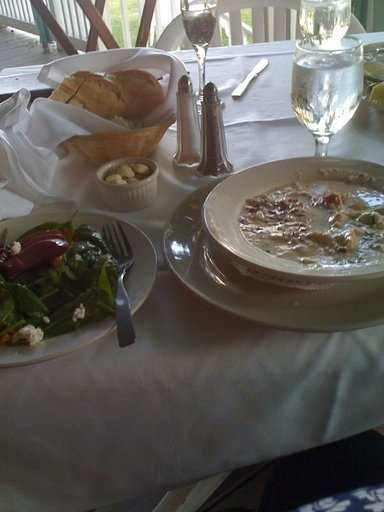soup: (209, 166, 384, 276)
